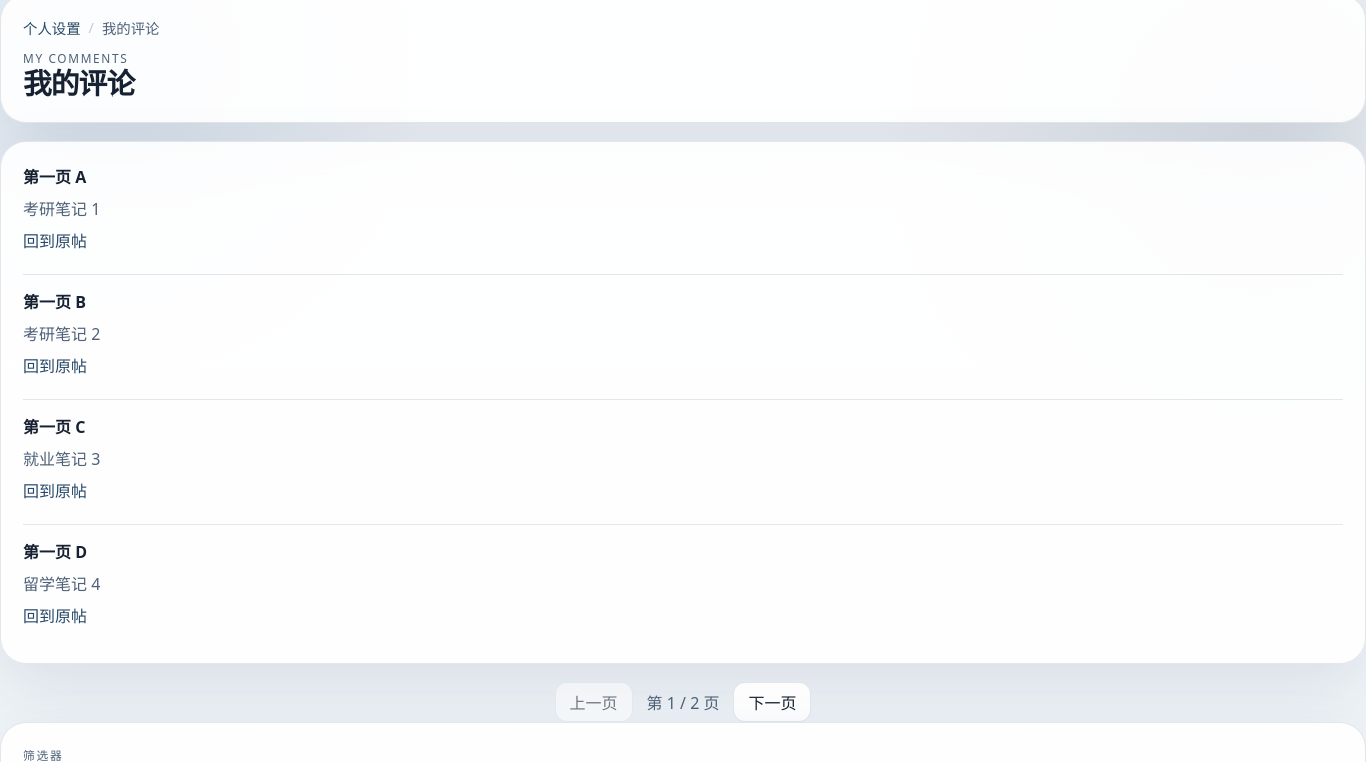
SettingsCommentsPage › paginates the filtered list and returns to the first page after applying a new filter
This screenshot has width=1366, height=762.
Expected: the text "第一页 A" is shown, [23, 166, 86, 188]
Expected: the text "第 1 / 2 页" is shown, [646, 690, 719, 714]
Click the button "下一页": click(772, 702) [734, 682, 812, 722]
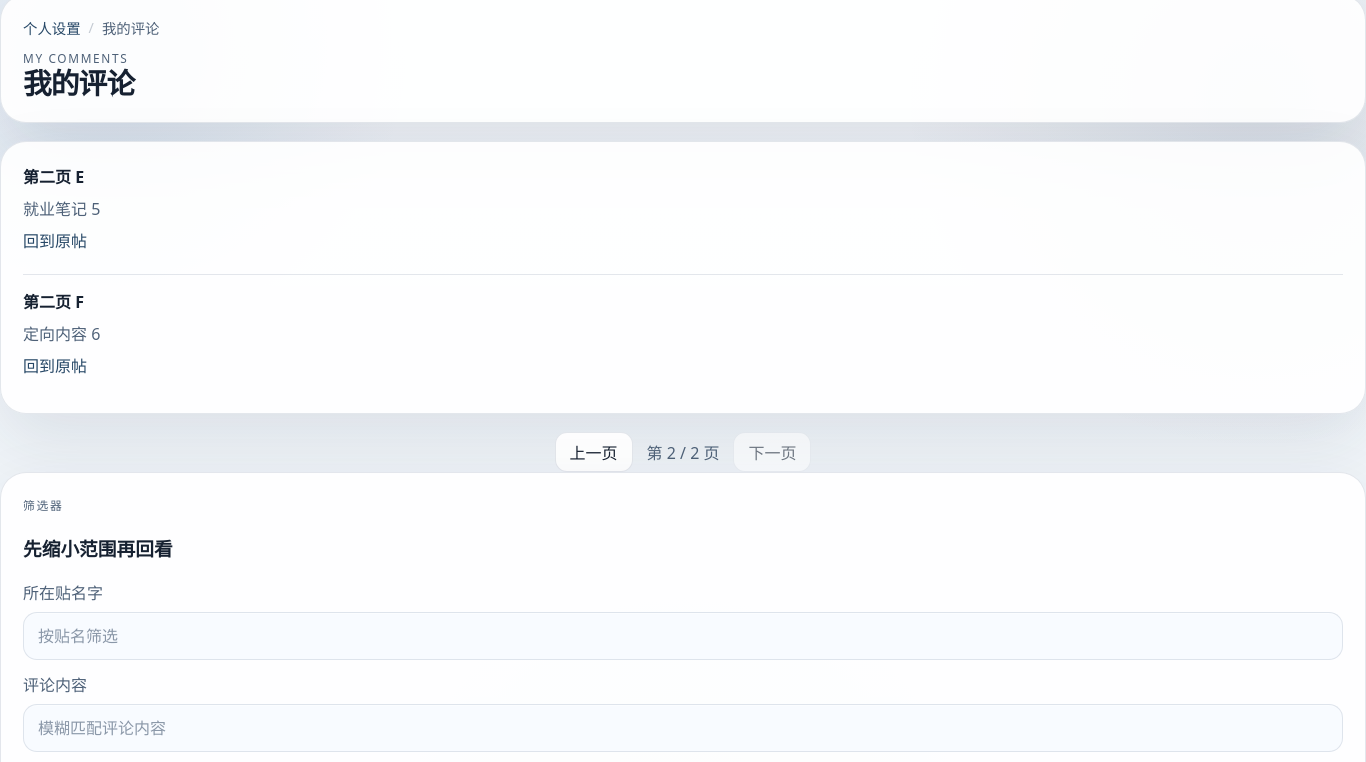
Expected: the text "第 2 / 2 页" is shown, [646, 440, 719, 464]
Expected: the text "第二页 E" is shown, [23, 166, 84, 188]
Expected: the text "第一页 A" is gone
In the field labelled "评论内容": (683, 728) [23, 704, 1343, 752], type "定向内容"
(page scrolled)
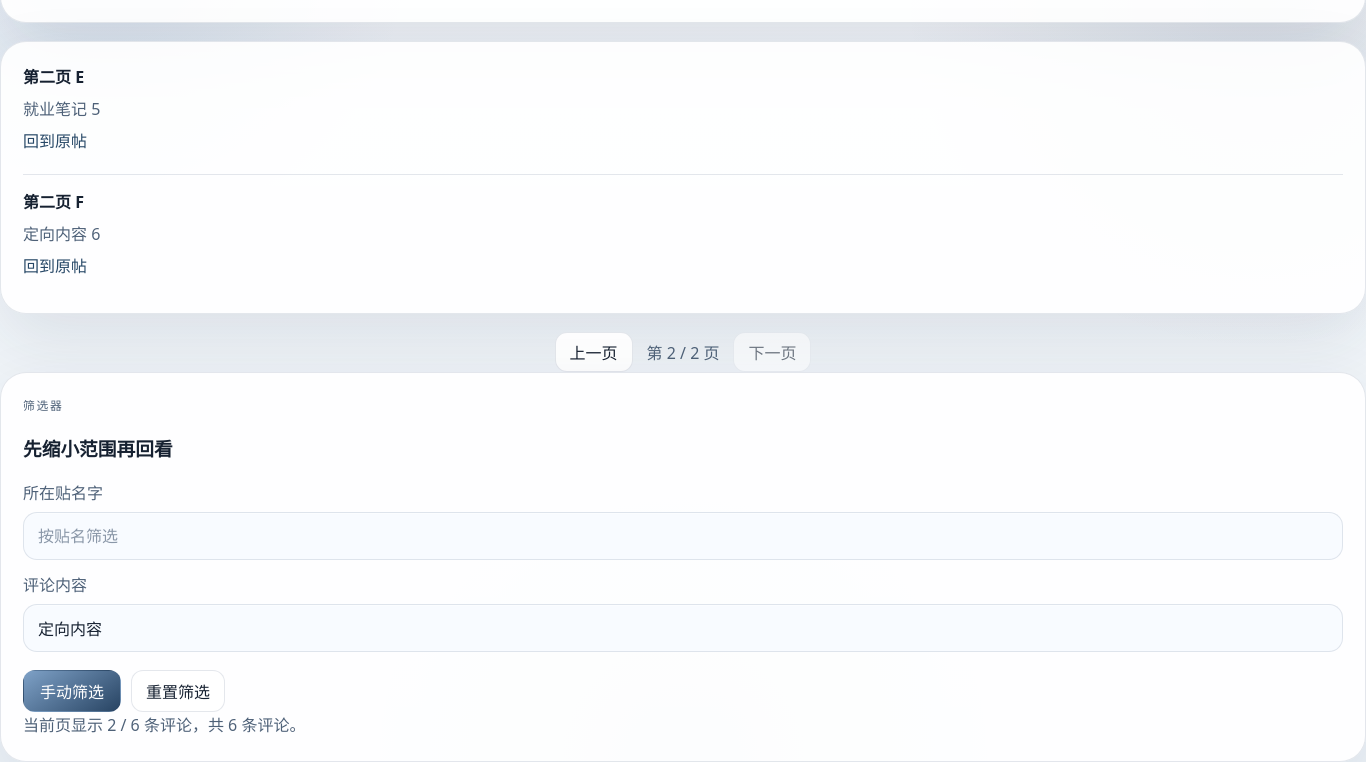
Click the button "手动筛选": click(72, 691) [23, 670, 121, 712]
(page scrolled)
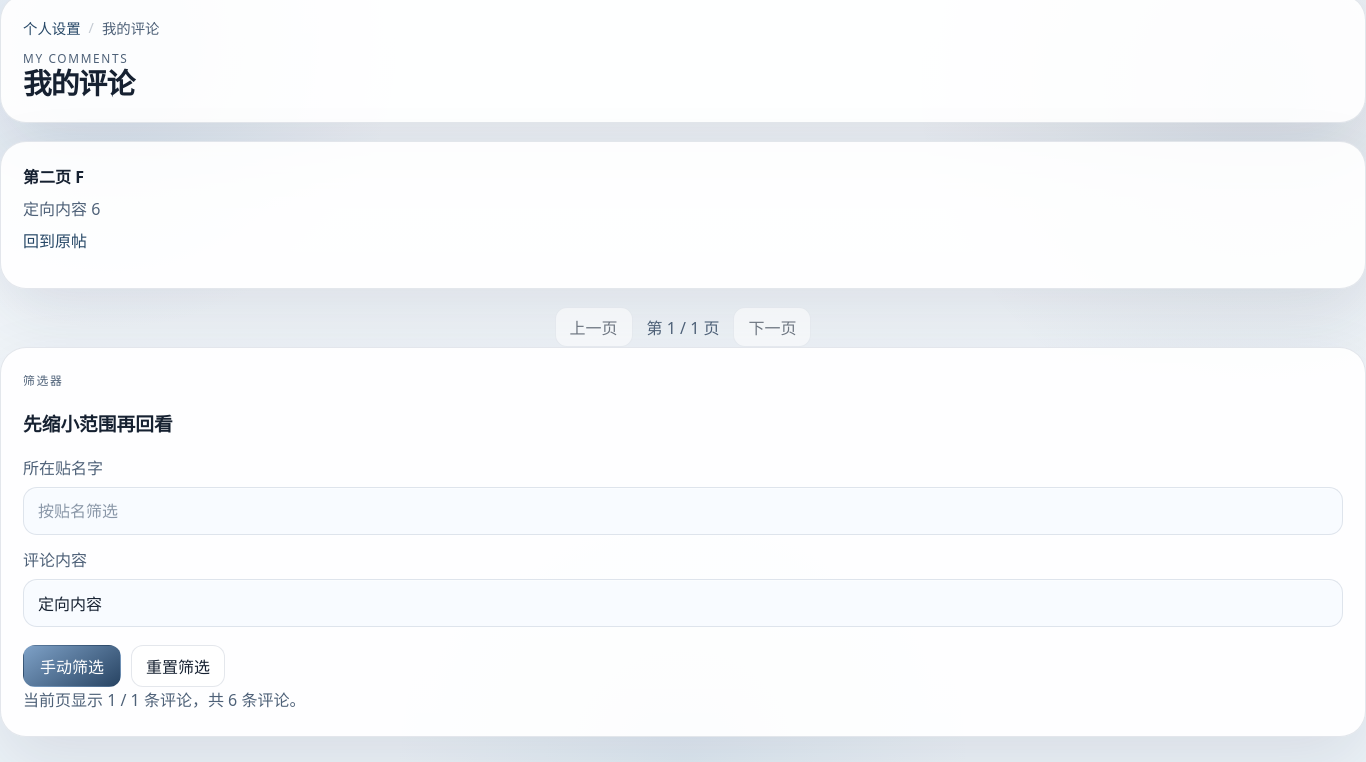
Expected: the text "第二页 F" is shown, [23, 166, 84, 188]
Expected: the text "第 1 / 1 页" is shown, [646, 315, 719, 339]
Expected: the text "第二页 E" is gone
